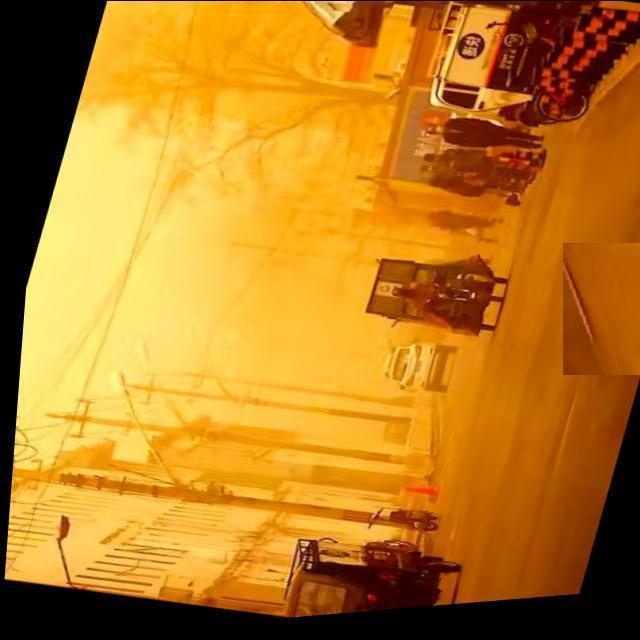Pothole: (563, 243, 640, 375)
